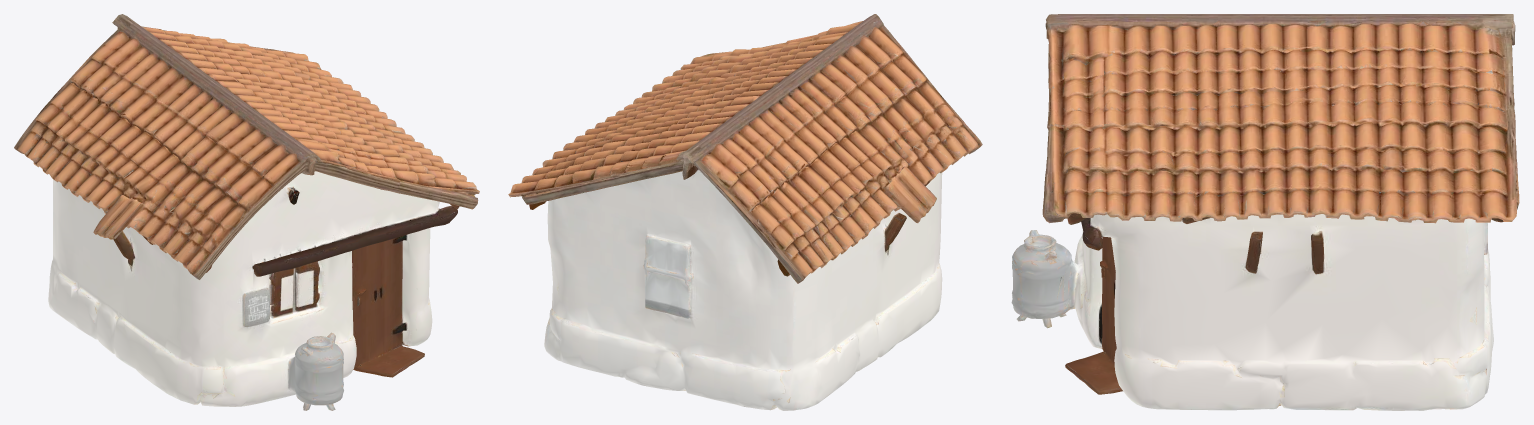
The model's file is house-dairy-shed-opt.glb.
3 renders of one model, left to right at view 1: azimuth 30°, elevation 25°; view 2: azimuth 150°, elevation 25°; view 3: azimuth 270°, elevation 25°, orthographic. The views are drawn at different scales.
Parts seen in each view (by area): view 1: Mesh_0; view 2: Mesh_0; view 3: Mesh_0.
Boxes of the visible parts, bbox=[...] form: Mesh_0: bbox=[14, 14, 479, 410]; Mesh_0: bbox=[508, 14, 982, 410]; Mesh_0: bbox=[1011, 14, 1519, 410].
Size of the model in its own units: 1.64 by 1.27 by 1.91.
Materials: 1 (1 with a texture image).
